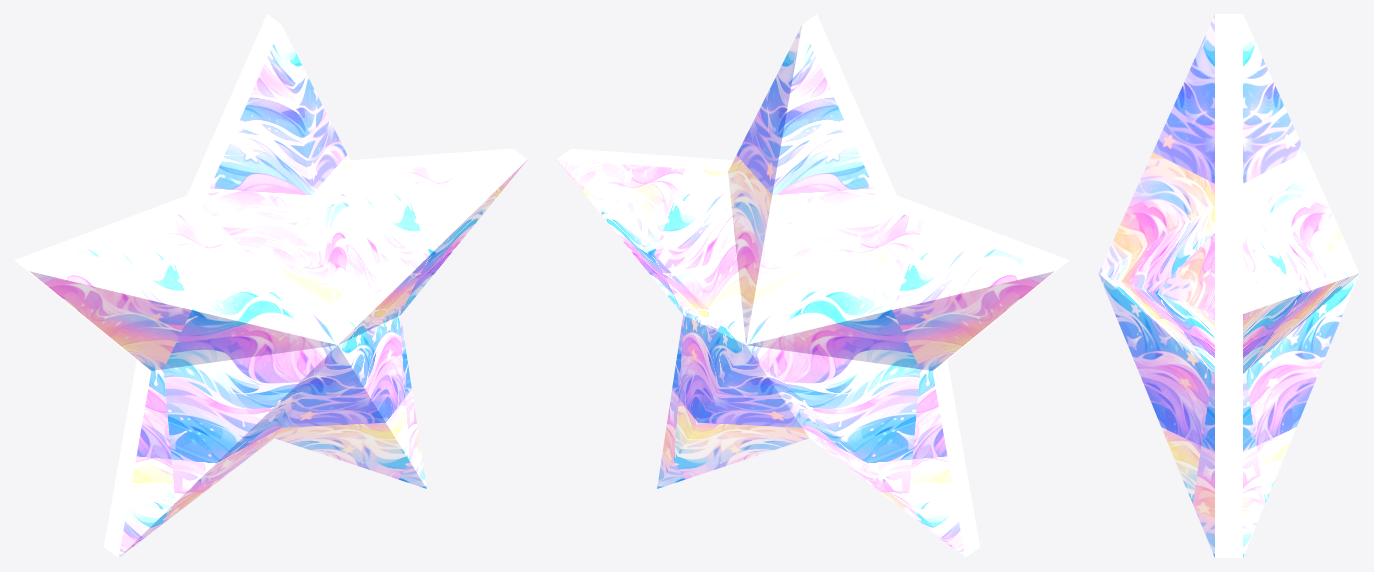
File: coin.glb
The picture shows the model from 3 angles, left to right: view 1: azimuth 30°, elevation 25°; view 2: azimuth 150°, elevation 25°; view 3: azimuth 270°, elevation 25°; orthographic projection. The views are drawn at different scales.
Parts seen in each view (by area): view 1: Star; view 2: Star; view 3: Star.
Boxes of the visible parts, x1,y1,x2,y2 form: Star: [14, 14, 527, 557]; Star: [556, 14, 1069, 557]; Star: [1098, 14, 1359, 557].
Size of the model in its own units: 0.7688 by 0.7358 by 0.3656.
2 materials, 1 textured.
